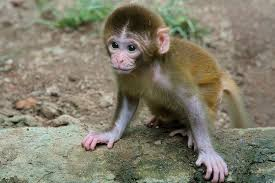monkey: (75, 7, 238, 183)
